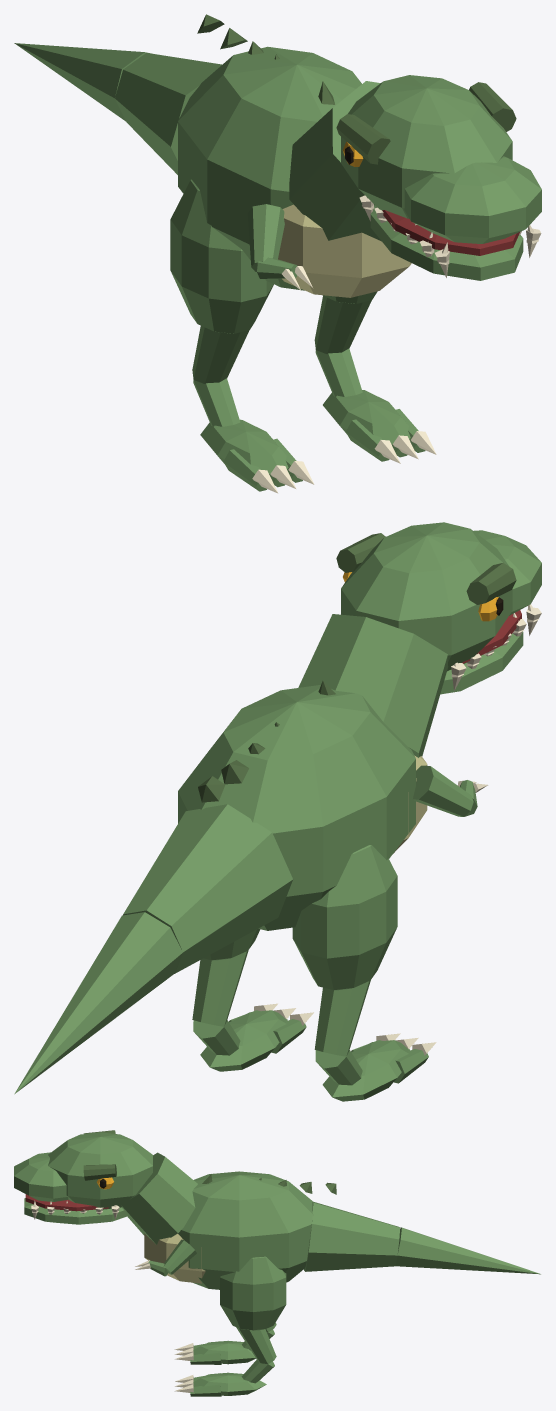
Rendered from forest_trex.glb.
3 views of the same model, one above another, from view 1: azimuth 30°, elevation 25°; view 2: azimuth 150°, elevation 25°; view 3: azimuth 270°, elevation 25° (orthographic). The views are drawn at different scales.
Visible parts, largest first — view 1: Torso_Geometry, Head_Geometry, LegL_Geometry, Tail_Geometry, LegR_Geometry, Jaw_Geometry; view 2: Torso_Geometry, Tail_Geometry, Head_Geometry, LegL_Geometry, LegR_Geometry, Jaw_Geometry; view 3: Torso_Geometry, Head_Geometry, Tail_Geometry, LegR_Geometry, LegL_Geometry, Jaw_Geometry.
Boxes of the visible parts, x1,y1,x2,y2 form: Torso_Geometry: [178, 14, 411, 297]; Head_Geometry: [336, 75, 541, 277]; LegL_Geometry: [170, 179, 314, 493]; Tail_Geometry: [14, 43, 221, 174]; LegR_Geometry: [314, 291, 436, 463]; Jaw_Geometry: [362, 197, 538, 280]; Torso_Geometry: [178, 614, 487, 930]; Tail_Geometry: [14, 804, 292, 1094]; Head_Geometry: [336, 522, 541, 690]; LegL_Geometry: [292, 845, 436, 1101]; LegR_Geometry: [192, 928, 313, 1071]; Jaw_Geometry: [440, 604, 539, 694]; Torso_Geometry: [121, 1152, 336, 1289]; Head_Geometry: [14, 1130, 152, 1219]; Tail_Geometry: [304, 1202, 540, 1274]; LegR_Geometry: [174, 1256, 286, 1396]; LegL_Geometry: [174, 1322, 276, 1364]; Jaw_Geometry: [24, 1198, 128, 1224].
Bounding box in the file's own units: 2.45 × 4.78 × 9.51.
